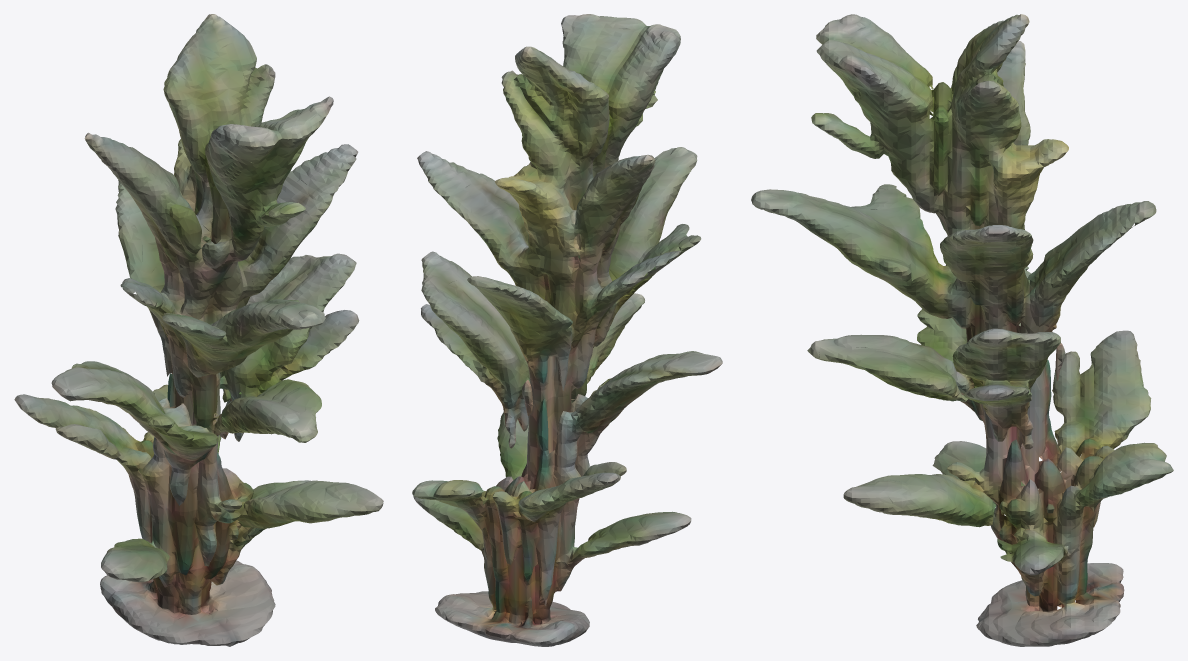
The model's file is potted-plant.glb.
The picture shows the model from 3 angles, left to right: view 1: azimuth 30°, elevation 25°; view 2: azimuth 150°, elevation 25°; view 3: azimuth 270°, elevation 25°; orthographic projection. The views are drawn at different scales.
Visible parts, largest first — view 1: world; view 2: world; view 3: world.
Part boxes in pixels (<box>): world: <box>14,14,383,646</box>; world: <box>412,14,722,646</box>; world: <box>751,14,1173,646</box>.
Size of the model in its own units: 0.5311 by 1.01 by 0.632.
